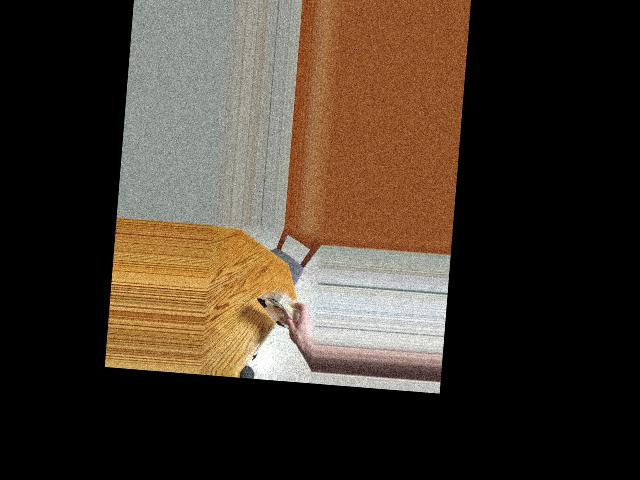cheese: (256, 281, 304, 343)
